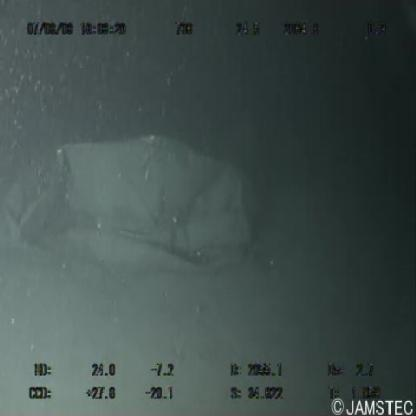Rác: (1, 124, 262, 294)
